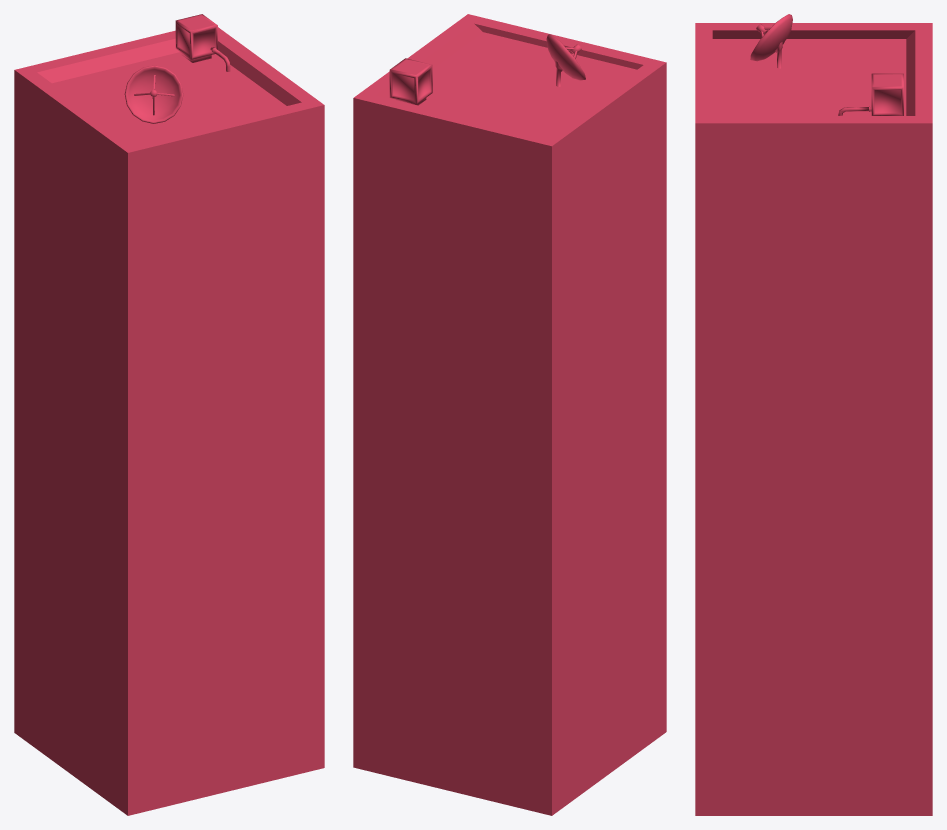
Rendered from Building5_red.fbx.
The picture shows the model from 3 angles, left to right: view 1: azimuth 30°, elevation 25°; view 2: azimuth 150°, elevation 25°; view 3: azimuth 270°, elevation 25°; orthographic projection. The views are drawn at different scales.
Visible parts, largest first — view 1: Building 5; view 2: Building 5; view 3: Building 5.
Boxes of the visible parts, bbox=[...] form: Building 5: bbox=[14, 14, 324, 815]; Building 5: bbox=[353, 14, 666, 815]; Building 5: bbox=[695, 14, 932, 815].
Bounding box in the file's own units: 1305 × 4458 × 1305.
Materials: 1 (1 with a texture image).
